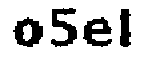5: (48, 6, 80, 50)
e: (82, 17, 112, 50)
l: (117, 7, 140, 55)
o: (12, 17, 42, 50)
